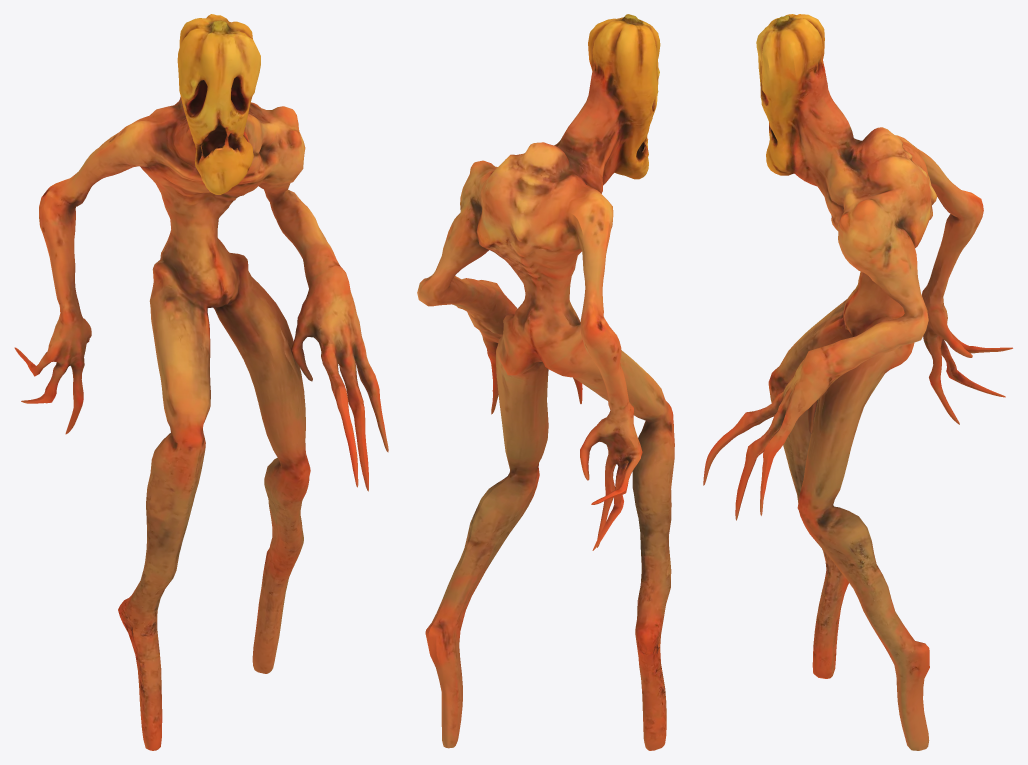
Rendered from halloween_creature.glb.
3 renders of one model, left to right at view 1: azimuth 30°, elevation 25°; view 2: azimuth 150°, elevation 25°; view 3: azimuth 270°, elevation 25°, orthographic. The views are drawn at different scales.
Visible parts, largest first — view 1: Object_2; view 2: Object_2; view 3: Object_2.
Boxes of the visible parts, bbox=[...] form: Object_2: bbox=[14, 14, 388, 750]; Object_2: bbox=[417, 14, 674, 750]; Object_2: bbox=[703, 14, 1012, 750].
Size of the model in its own units: 0.7684 by 2.15 by 0.8863.
1 material, 1 textured.
